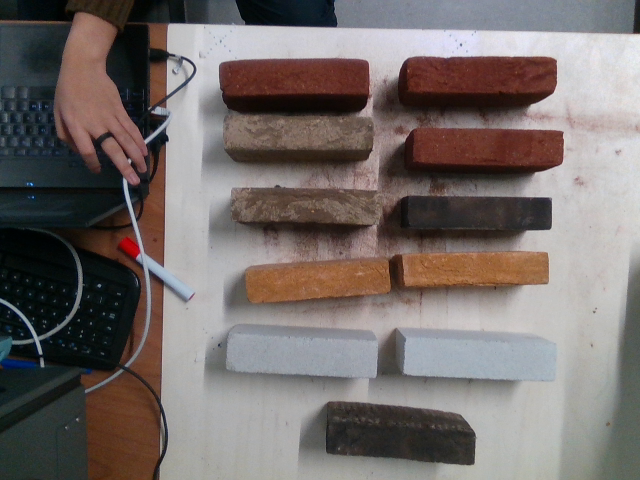brick-side: (325, 415, 476, 465), (227, 332, 377, 378), (404, 337, 554, 380), (221, 57, 370, 98), (242, 259, 391, 300), (419, 125, 561, 167), (405, 56, 554, 94), (224, 116, 372, 150), (405, 251, 547, 286), (405, 195, 553, 228), (236, 188, 378, 221)
